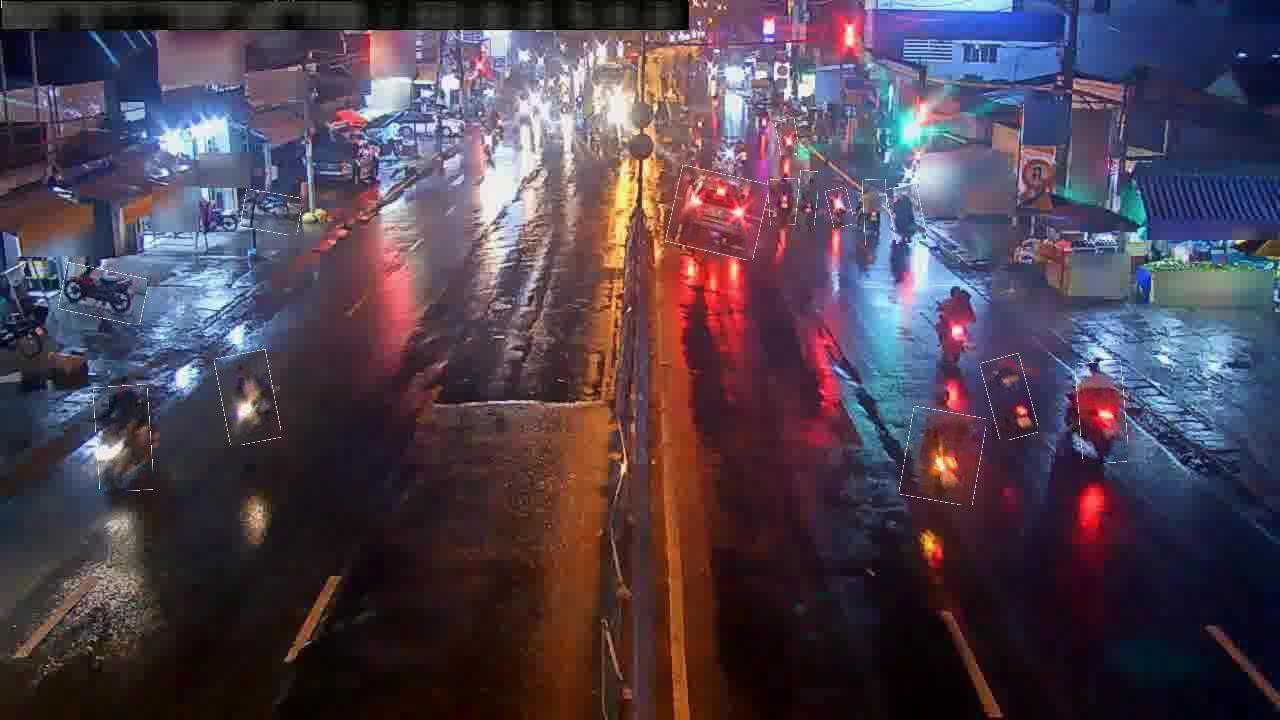container: (669, 170, 766, 257)
motorbike: (902, 409, 984, 504), (95, 385, 153, 492), (218, 351, 278, 444), (1077, 361, 1127, 464), (60, 266, 147, 321), (985, 355, 1035, 440), (932, 285, 974, 362), (242, 192, 301, 234), (888, 185, 925, 244), (863, 180, 888, 246), (768, 178, 801, 226), (797, 171, 818, 226), (827, 188, 852, 228), (777, 120, 798, 156)
